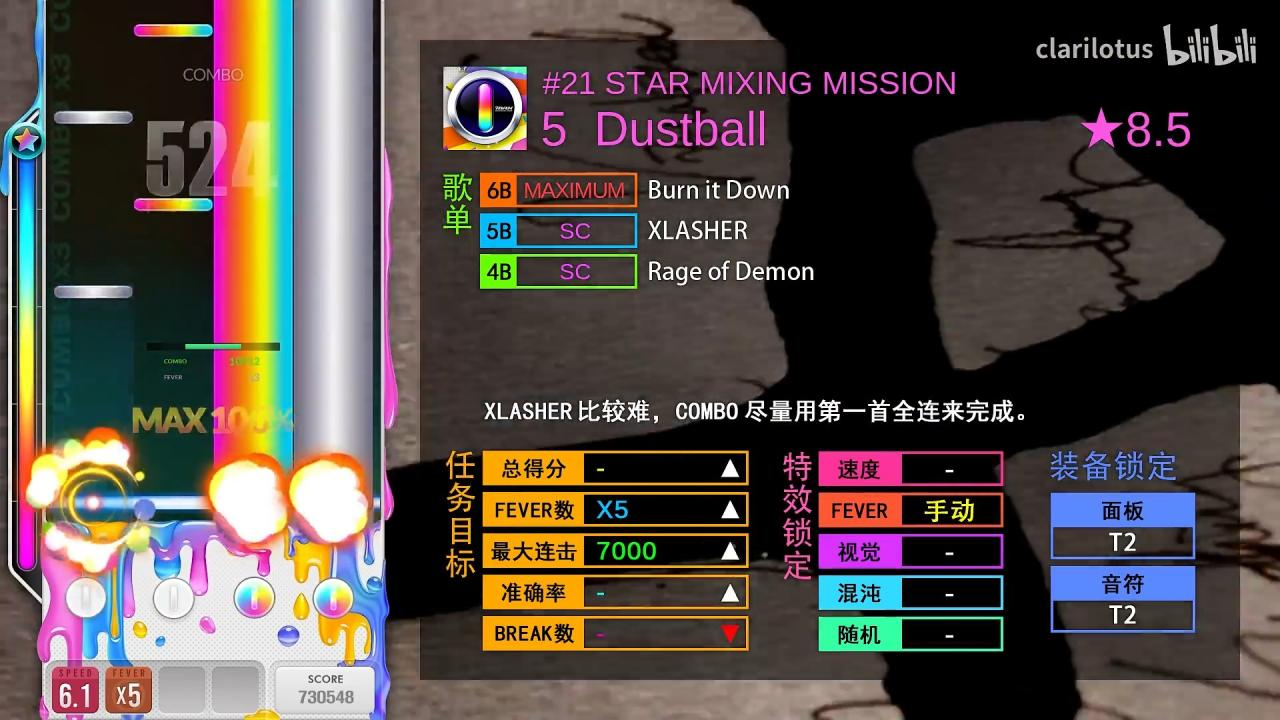note: (133, 24, 213, 38), (134, 198, 213, 212), (54, 286, 132, 300), (54, 111, 132, 124)
